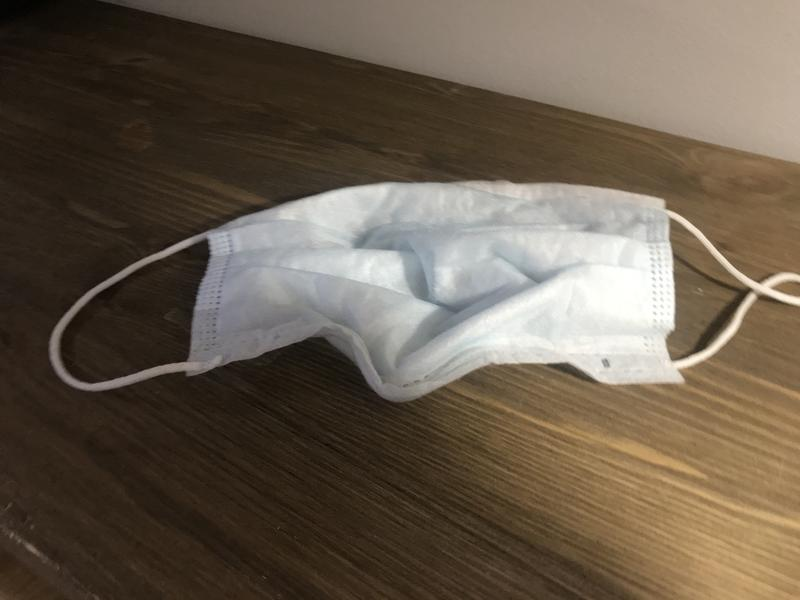medical_mask: (49, 179, 800, 395)
